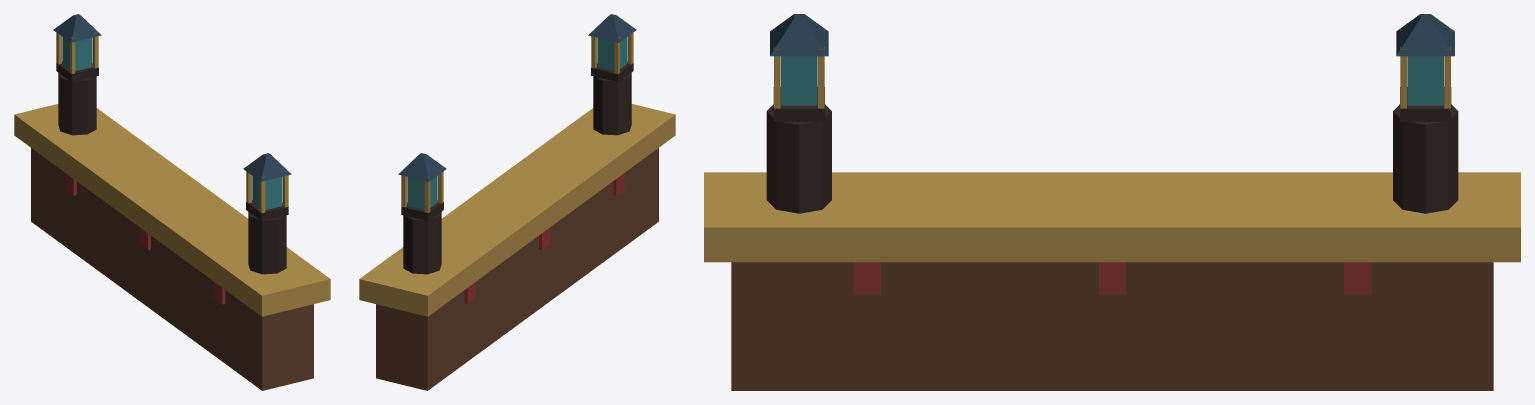
Rendered from PirateCove_TideDivider_Showcase.glb.
3 renders of one model, left to right at view 1: azimuth 30°, elevation 25°; view 2: azimuth 150°, elevation 25°; view 3: azimuth 270°, elevation 25°, orthographic. The views are drawn at different scales.
Visible parts, largest first — view 1: PirateCove_TideDivider_Showcase; view 2: PirateCove_TideDivider_Showcase; view 3: PirateCove_TideDivider_Showcase.
Boxes of the visible parts, bbox=[...] form: PirateCove_TideDivider_Showcase: bbox=[14, 14, 330, 390]; PirateCove_TideDivider_Showcase: bbox=[359, 14, 675, 390]; PirateCove_TideDivider_Showcase: bbox=[704, 14, 1520, 390].
Size of the model in its own units: 0.48 by 1.43 by 3.
